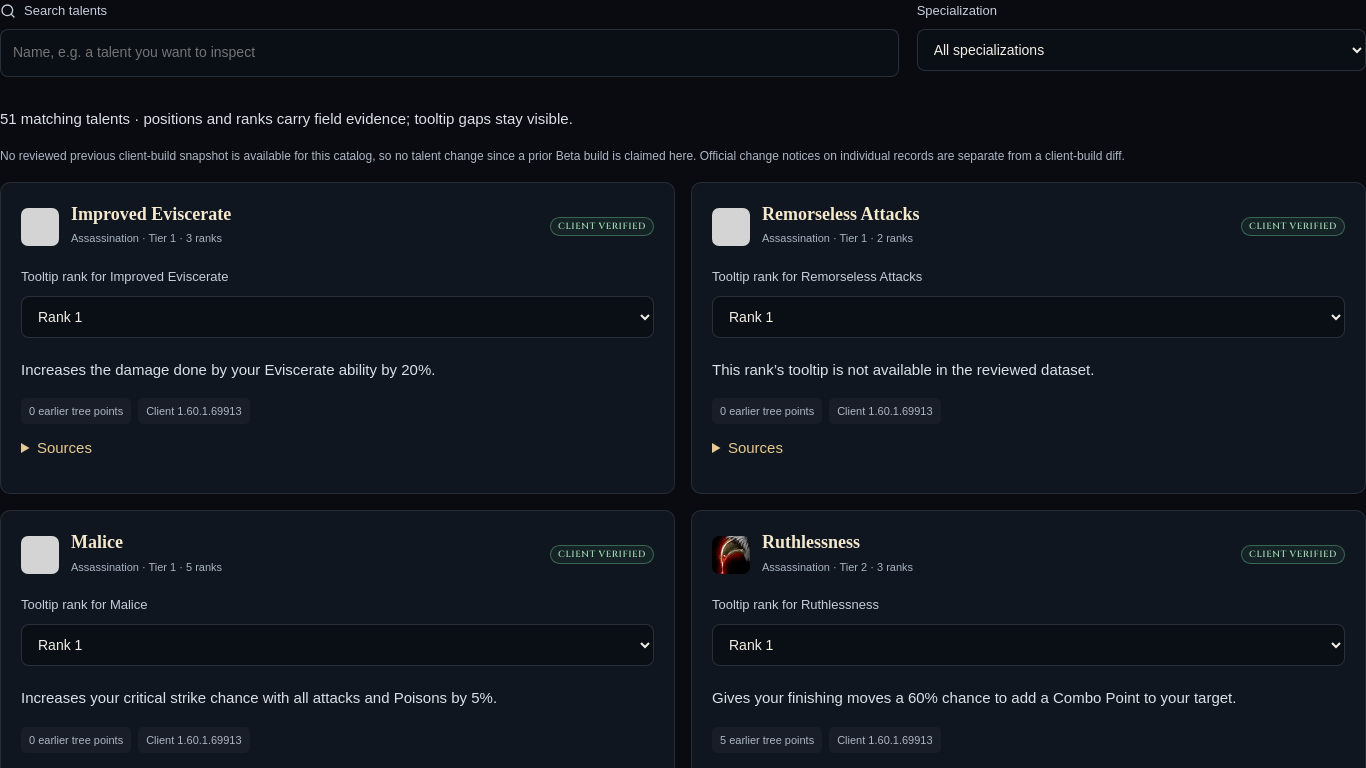
Test case: preserves the unavailable Remorseless Attacks tooltip in the explicit 69913 catalog
The width and height of the screenshot is (1366, 768).
Type "Remorseless Attacks" into the field labelled "Search talents".
click(449, 53); type("Remorseless Attacks")  # box x1=0 y1=29 x2=899 y2=76
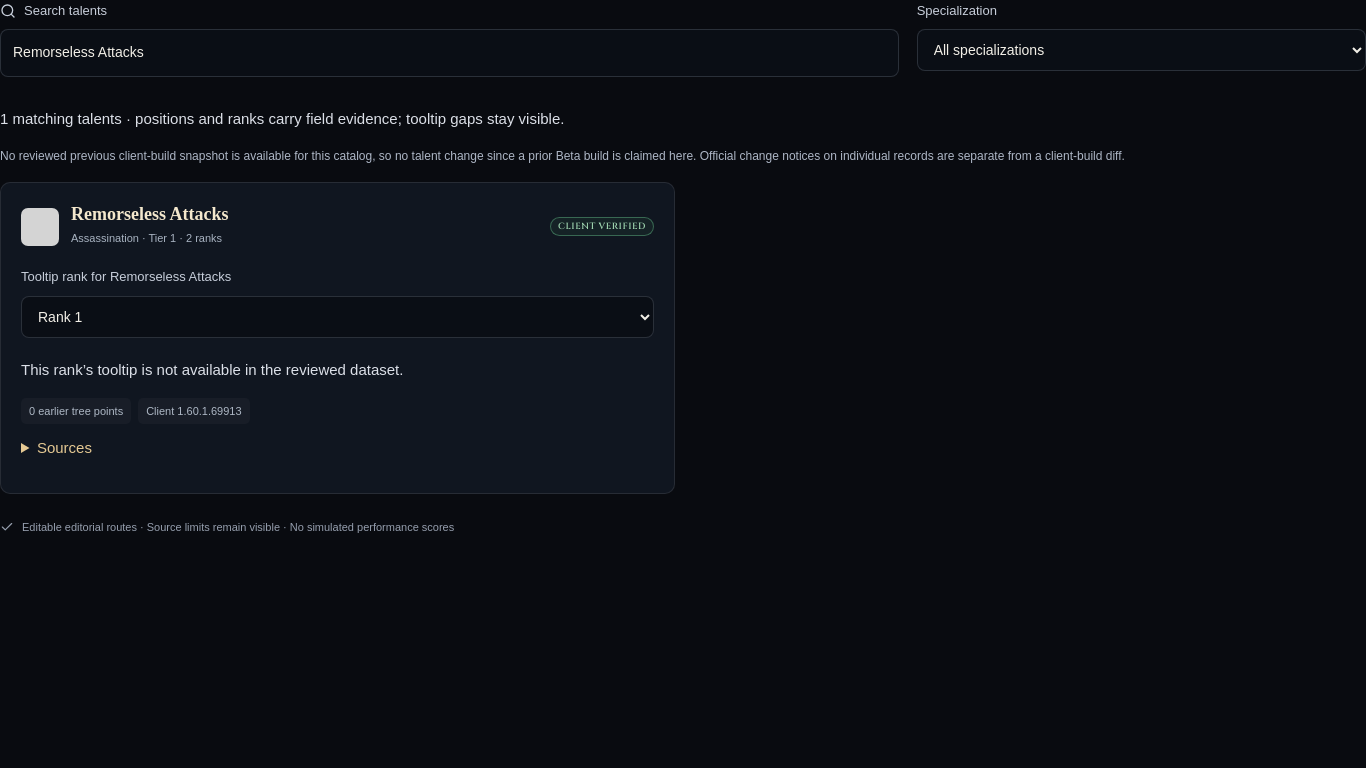
Check: the text "This rank’s tooltip is not available in the reviewed dataset." is shown, box x1=21 y1=361 x2=403 y2=378
Check: the number of elements with test id "talent-record" is 1, box x1=0 y1=182 x2=675 y2=494
